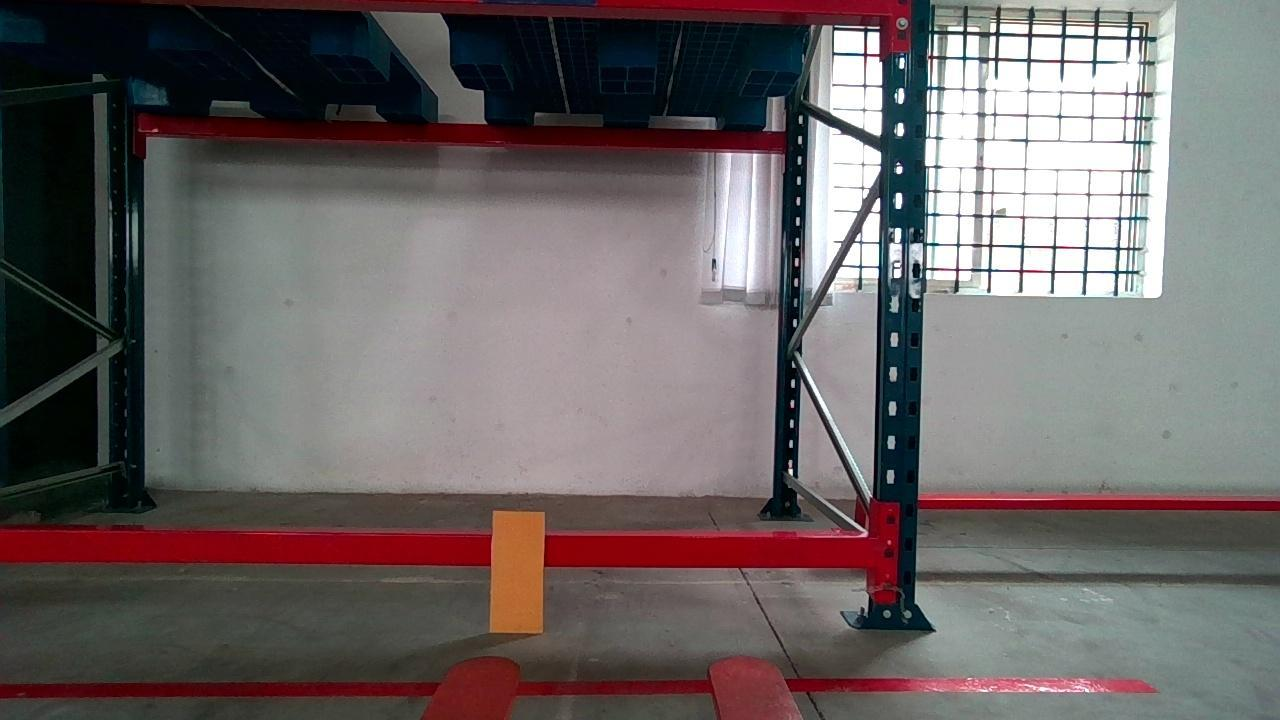h_rack: (0, 530, 872, 563)
orange_strip: (492, 510, 545, 632)
red_line: (0, 677, 1159, 698)
